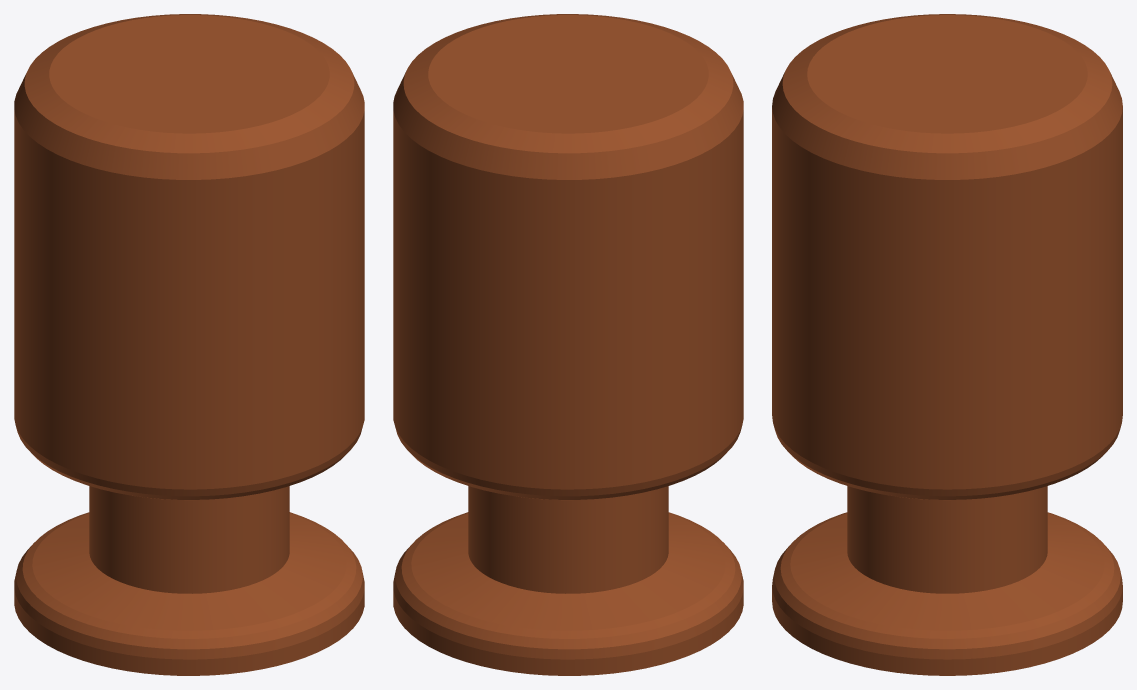
The picture shows the model from 3 angles, left to right: view 1: azimuth 30°, elevation 25°; view 2: azimuth 150°, elevation 25°; view 3: azimuth 270°, elevation 25°; orthographic projection.
Visible parts, largest first — view 1: pedestal; view 2: pedestal; view 3: pedestal.
Part boxes in pixels (bbox=[...]): pedestal: bbox=[14, 14, 364, 675]; pedestal: bbox=[393, 14, 743, 675]; pedestal: bbox=[772, 14, 1122, 675].
Size of the model in its own units: 0.5424 by 0.9 by 0.5424.
